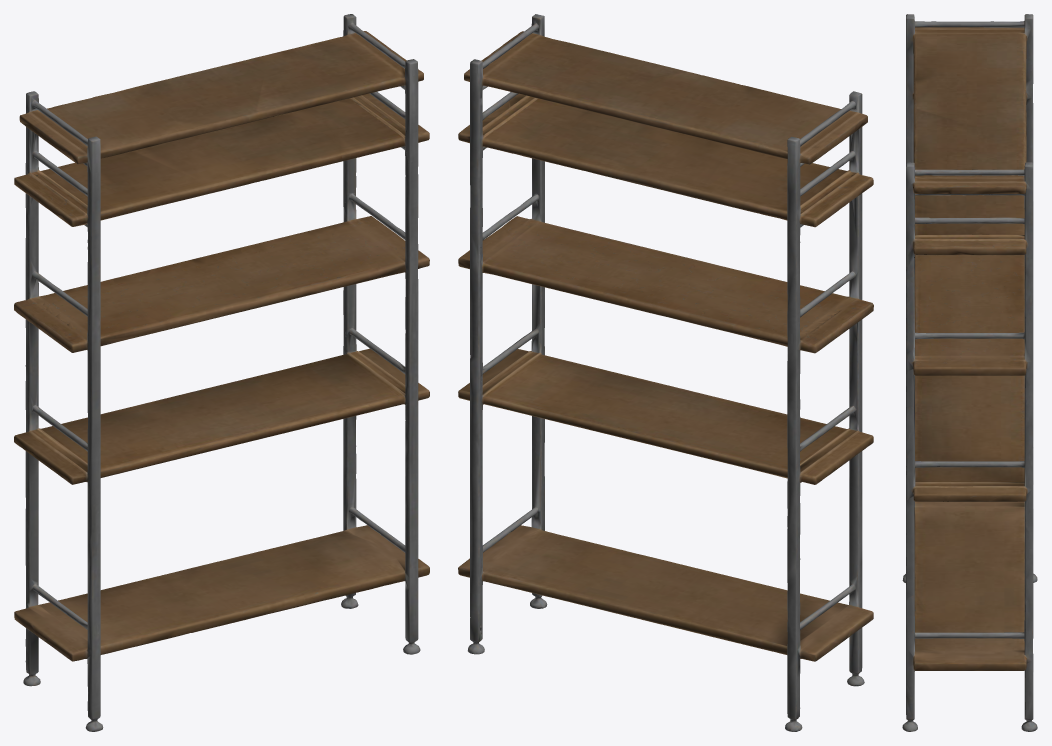
Rendered from shelving.glb.
The picture shows the model from 3 angles, left to right: view 1: azimuth 30°, elevation 25°; view 2: azimuth 150°, elevation 25°; view 3: azimuth 270°, elevation 25°; orthographic projection. The views are drawn at different scales.
Parts seen in each view (by area): view 1: world; view 2: world; view 3: world.
Boxes of the visible parts, x1,y1,x2,y2 form: world: [14, 14, 429, 731]; world: [458, 14, 873, 731]; world: [902, 14, 1037, 731].
Size of the model in its own units: 0.6373 by 1 by 0.2172.
Materials: 1 (1 with a texture image).
